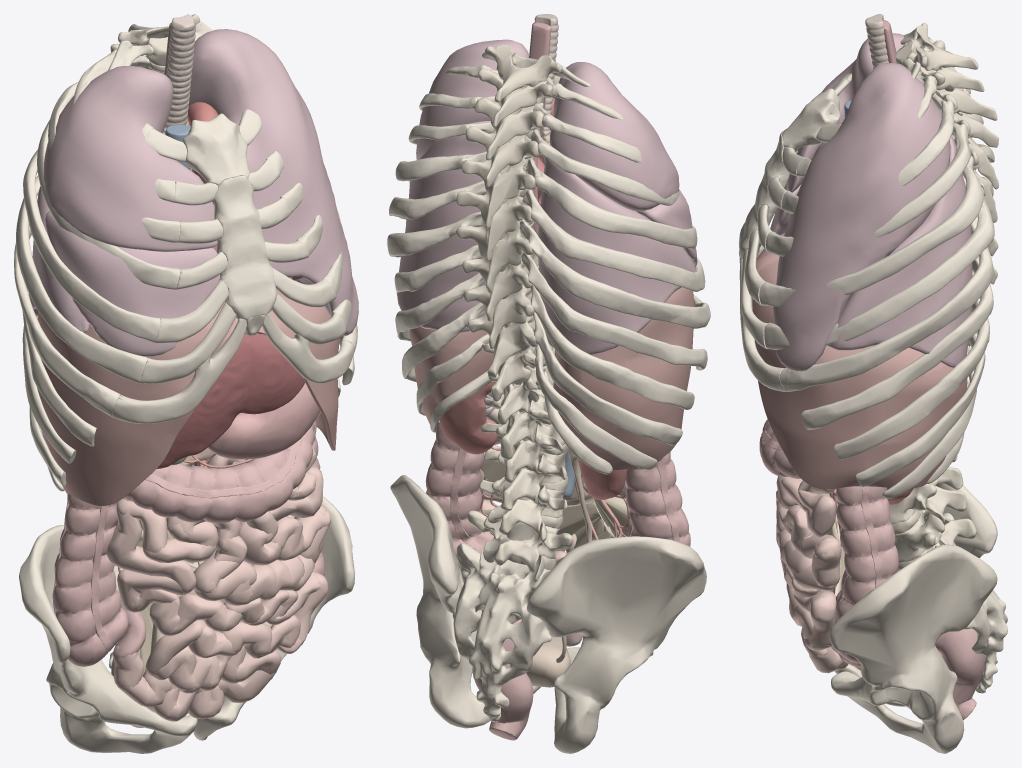
Rendered from bodyparts3d-torso.glb.
3 renders of one model, left to right at view 1: azimuth 30°, elevation 25°; view 2: azimuth 150°, elevation 25°; view 3: azimuth 270°, elevation 25°, orthographic. The views are drawn at different scales.
Parts seen in each view (by area): view 1: rib-cage, small-intestine, right-lung, colon, left-lung, pelvis, diaphragm, liver, stomach, trachea, spine, mesentery (+1 smaller); view 2: rib-cage, pelvis, spine, right-lung, colon, left-lung, diaphragm, mesentery, left-kidney, urinary-bladder, right-kidney, esophagus (+3 smaller); view 3: rib-cage, left-lung, pelvis, diaphragm, spine, colon, small-intestine, right-lung, trachea.
Boxes of the visible parts, x1,y1,x2,y2 form: rib-cage: (14,21,357,491); small-intestine: (106,446,330,721); right-lung: (28,65,219,356); colon: (52,420,325,727); left-lung: (188,29,358,335); pelvis: (19,496,355,753); diaphragm: (37,280,339,506); liver: (157,333,305,468); stomach: (207,383,320,459); trachea: (164,14,195,130); spine: (110,14,200,564); mesentery: (137,461,295,675); rib-cage: (387,52,710,474); pelvis: (390,475,706,753); spine: (456,45,573,572); right-lung: (538,62,697,354); colon: (425,383,690,740); left-lung: (396,39,528,332); diaphragm: (409,287,694,470); mesentery: (480,435,627,565); left-kidney: (439,381,497,454); urinary-bladder: (526,636,570,687); right-kidney: (578,459,627,499); esophagus: (529,22,551,234); rib-cage: (739,28,994,498); left-lung: (773,63,972,371); pelvis: (830,483,1007,753); diaphragm: (752,233,967,489); spine: (889,22,998,571); colon: (759,419,985,719); small-intestine: (776,476,848,673); right-lung: (770,33,903,234); trachea: (865,14,888,68).
Bounding box in the file's own units: 290 × 643 × 221.
